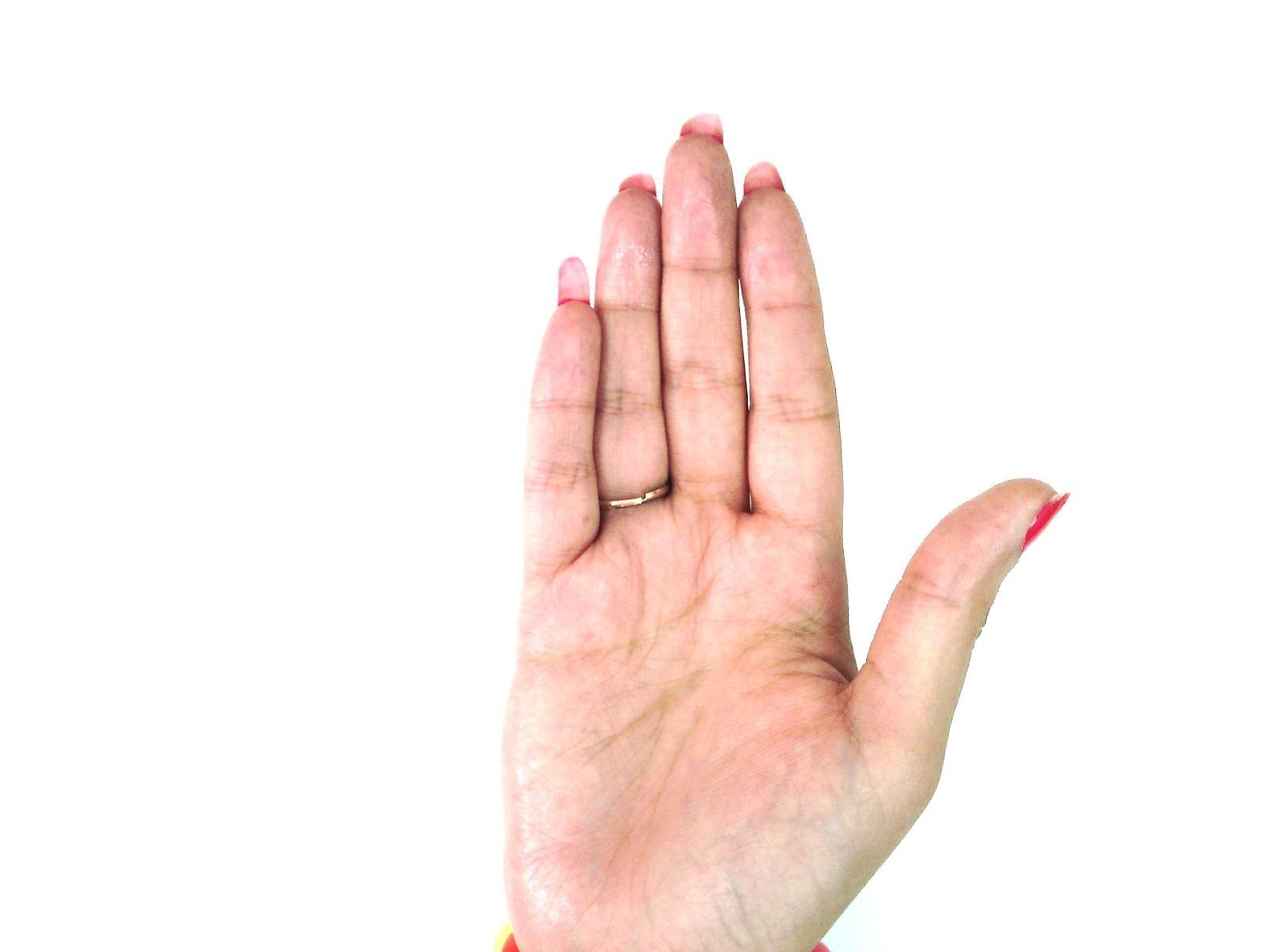open_palm: (496, 112, 1071, 951)
